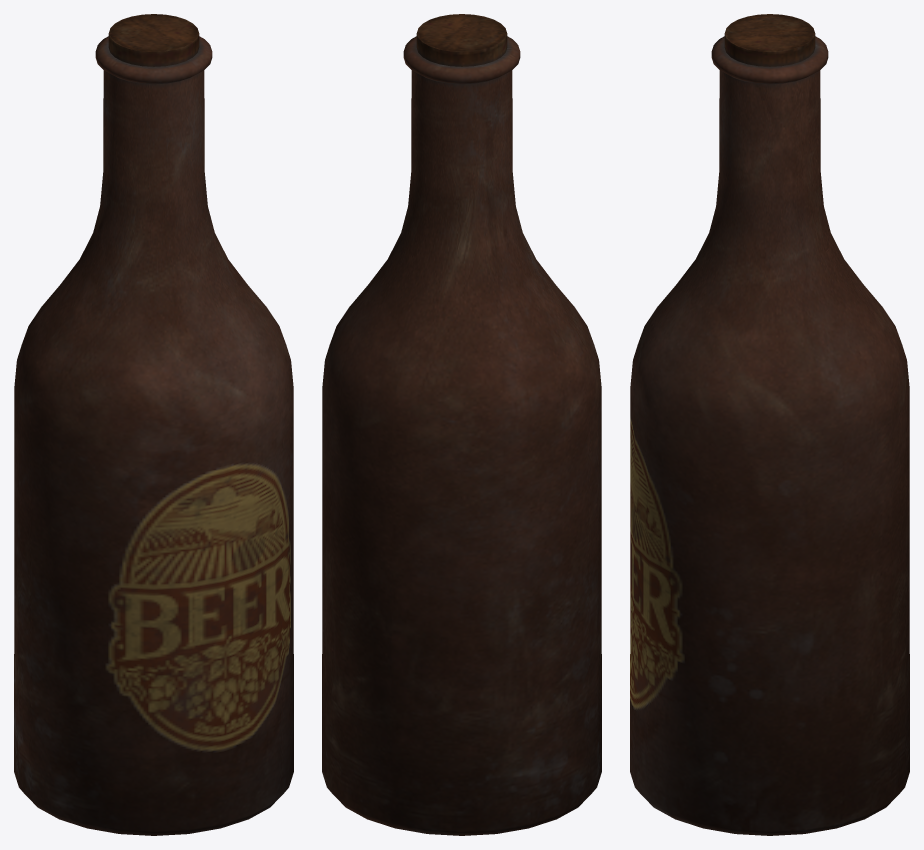
Rendered from Bottles_5.fbx.
3 views of the same model, side by side, from view 1: azimuth 30°, elevation 25°; view 2: azimuth 150°, elevation 25°; view 3: azimuth 270°, elevation 25° (orthographic).
Visible parts, largest first — view 1: bottle_5; view 2: bottle_5; view 3: bottle_5.
Part boxes in pixels (x1,y1,x2,y2): bottle_5: (14, 14, 293, 835); bottle_5: (322, 14, 601, 835); bottle_5: (630, 14, 909, 835).
Bounding box in the file's own units: 7.44 × 21.93 × 7.44.
